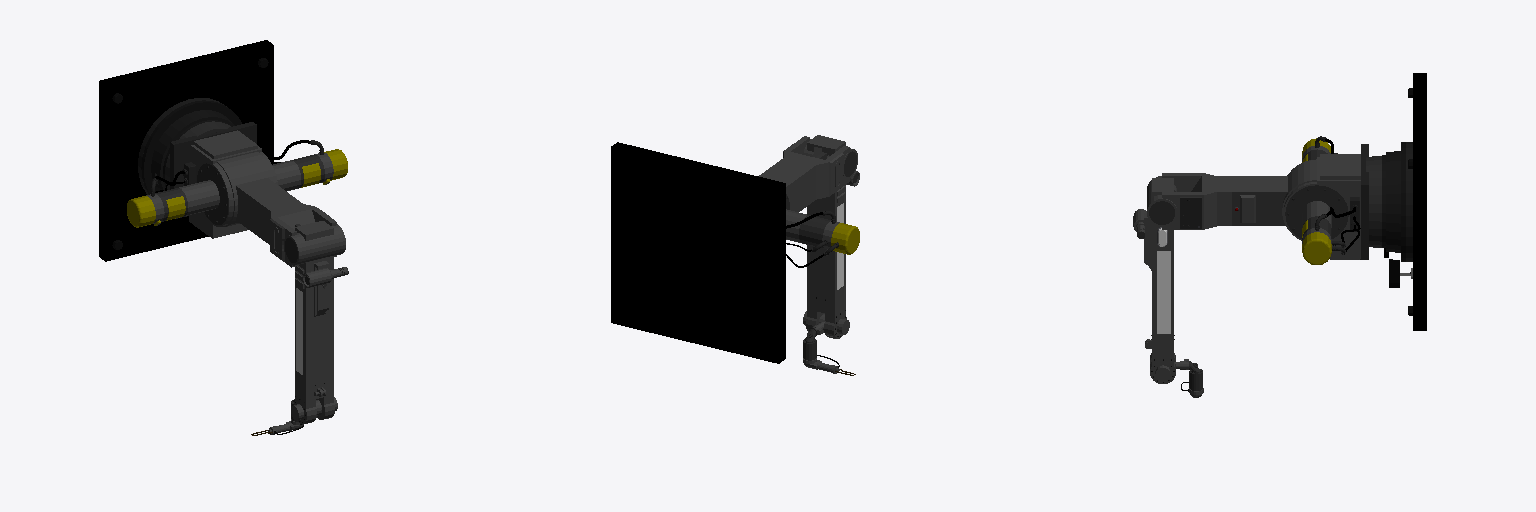
File: Patt04.obj
3 views of the same model, side by side, from view 1: azimuth 30°, elevation 25°; view 2: azimuth 150°, elevation 25°; view 3: azimuth 270°, elevation 25° (orthographic).
Visible parts, largest first — view 1: platform_layer01, baserot_layer01, forearm_layer01, __layer01; view 2: platform_layer01, forearm_layer01, __layer01, baserot_layer01; view 3: baserot_layer01, __layer01, platform_layer01, forearm_layer01.
Boxes of the visible parts, x1=… form: platform_layer01: x1=99, y1=40, x2=273, y2=261; baserot_layer01: x1=127, y1=110, x2=347, y2=238; forearm_layer01: x1=284, y1=221, x2=348, y2=424; __layer01: x1=217, y1=152, x2=336, y2=267; platform_layer01: x1=611, y1=142, x2=785, y2=363; forearm_layer01: x1=803, y1=135, x2=859, y2=338; __layer01: x1=759, y1=136, x2=849, y2=211; baserot_layer01: x1=786, y1=192, x2=859, y2=267; baserot_layer01: x1=1284, y1=136, x2=1400, y2=264; __layer01: x1=1162, y1=160, x2=1316, y2=229; platform_layer01: x1=1389, y1=73, x2=1426, y2=330; forearm_layer01: x1=1133, y1=176, x2=1177, y2=383.
Size of the model in its own units: 1.24 by 1.61 by 1.51.